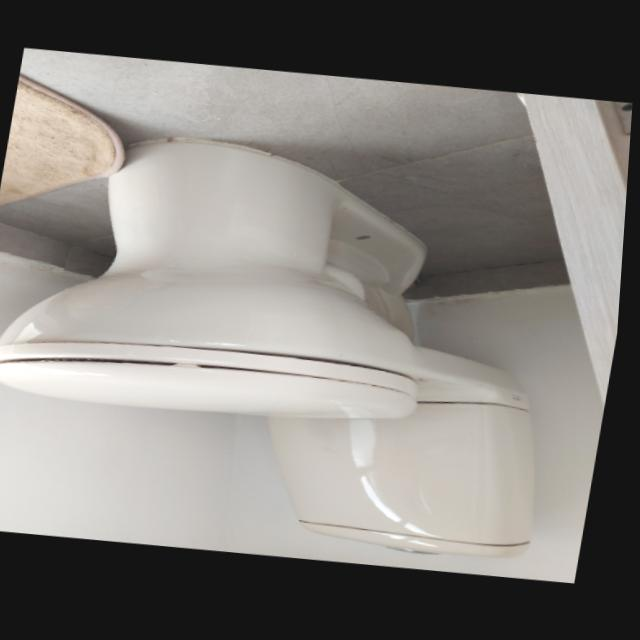toilet: (0, 116, 599, 573)
